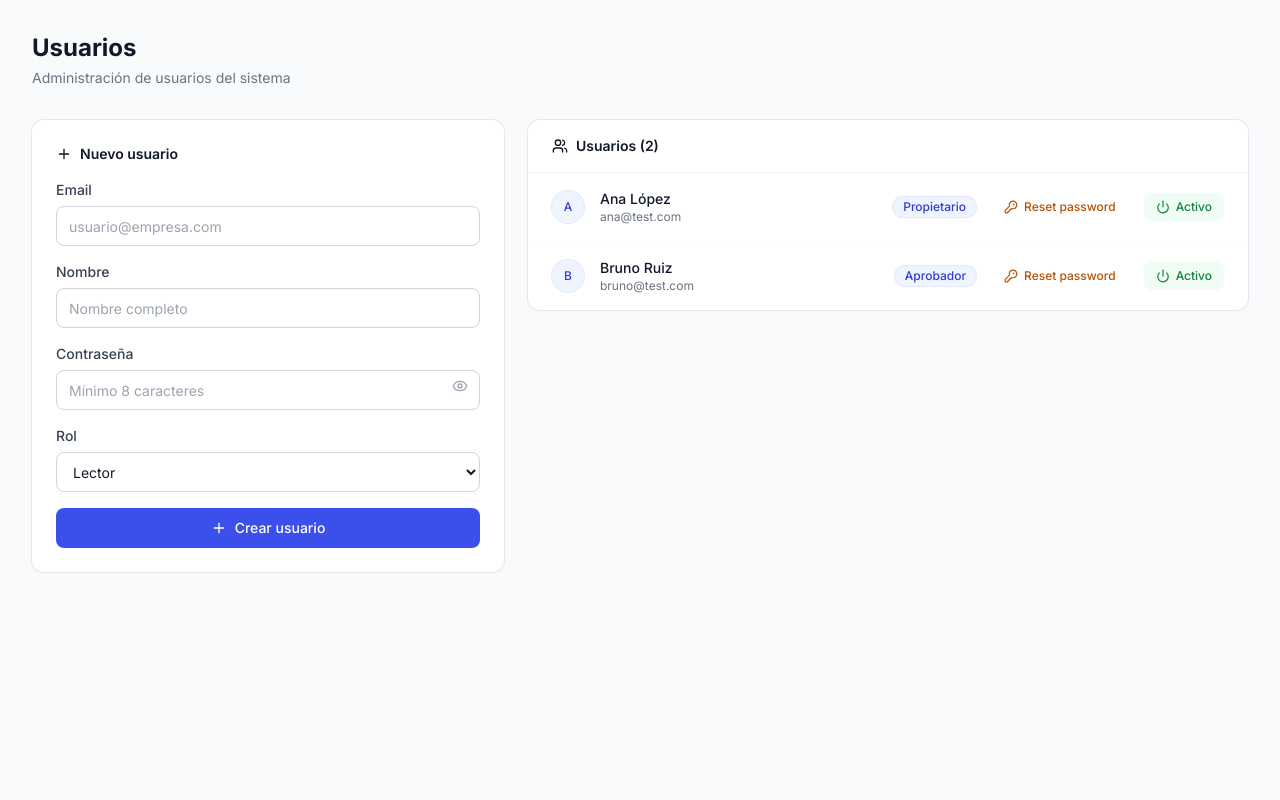
Test: UsersPage › abre modal de reset password al hacer clic
Expected: the text "Ana López" is shown, [600,190,671,207]
What coordinates should you click on to do the following:
click the button "Reset password" in the row of "Ana López"
I would click on:
 (1060, 207)
Its box is [992,193,1128,221].
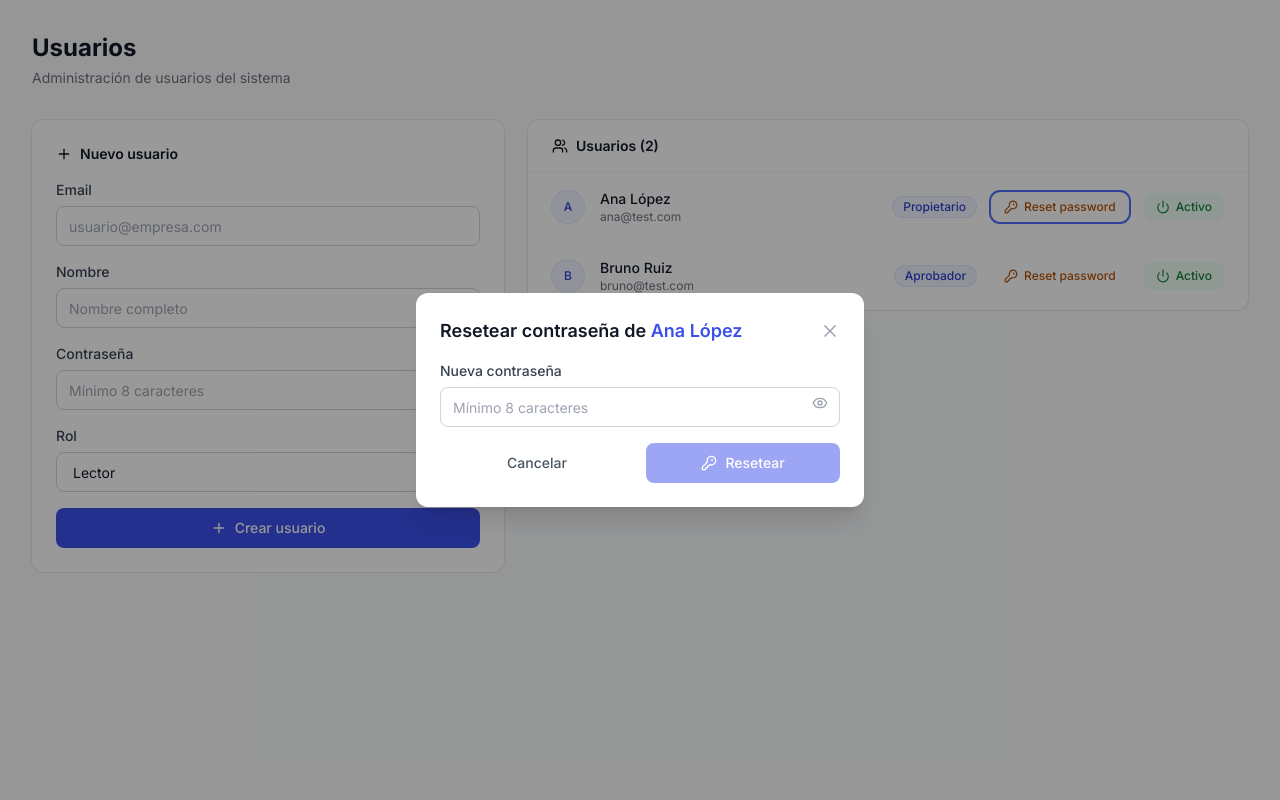
Expected: the heading "Resetear contraseña de Ana López" is shown, [440,317,742,345]
Expected: the password field labelled "Nueva contraseña" is shown, [440,387,840,427]
